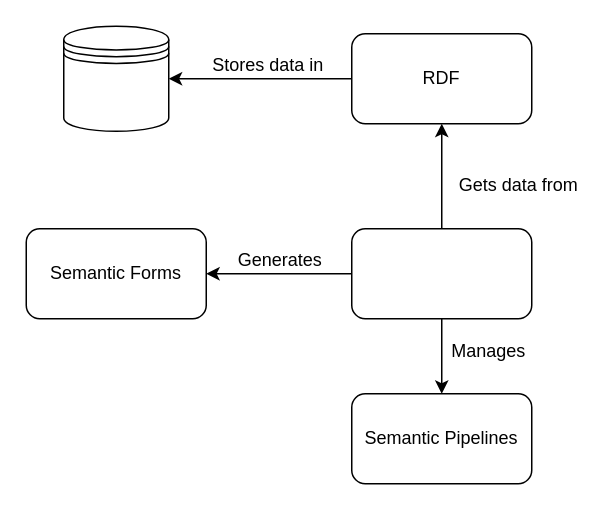
The diagram is 603 pixels wide and 510 high, and some of its shapes have lost their labels. Each missing label, with the centre of its shape:
Onthology DB: [115,78]
SPEd: [441,273]
